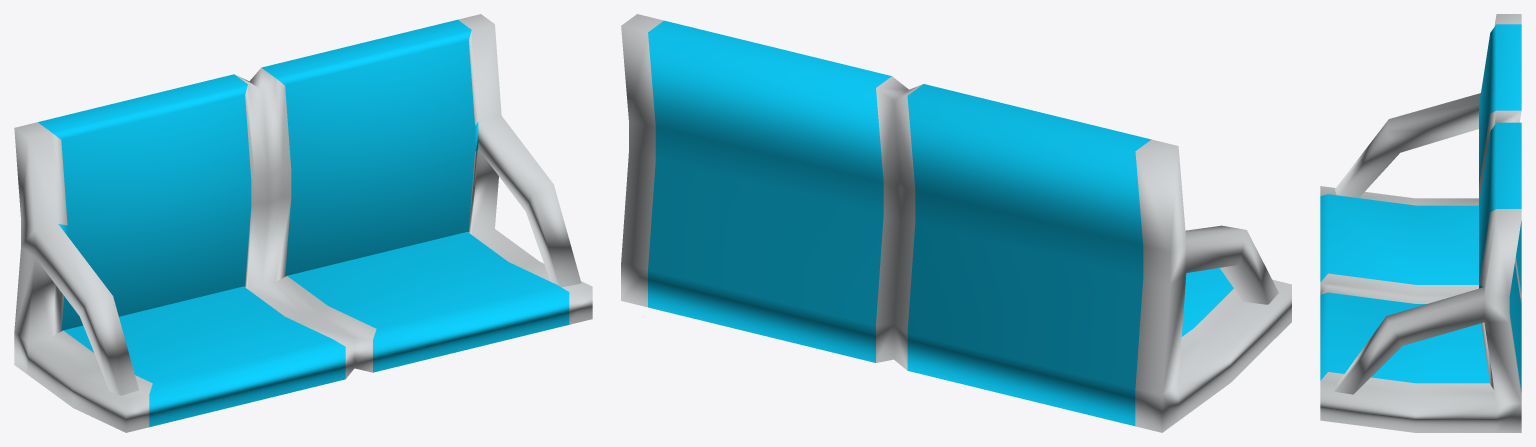
File: subwayChairBlue.glb
3 renders of one model, left to right at view 1: azimuth 30°, elevation 25°; view 2: azimuth 150°, elevation 25°; view 3: azimuth 270°, elevation 25°, orthographic. The views are drawn at different scales.
Parts seen in each view (by area): view 1: Cube; view 2: Cube; view 3: Cube.
Boxes of the visible parts, bbox=[...] form: Cube: bbox=[14, 14, 592, 432]; Cube: bbox=[621, 14, 1291, 432]; Cube: bbox=[1320, 14, 1521, 432].
Size of the model in its own units: 4.76 by 2.31 by 1.97.
Materials: 1 (1 with a texture image).
